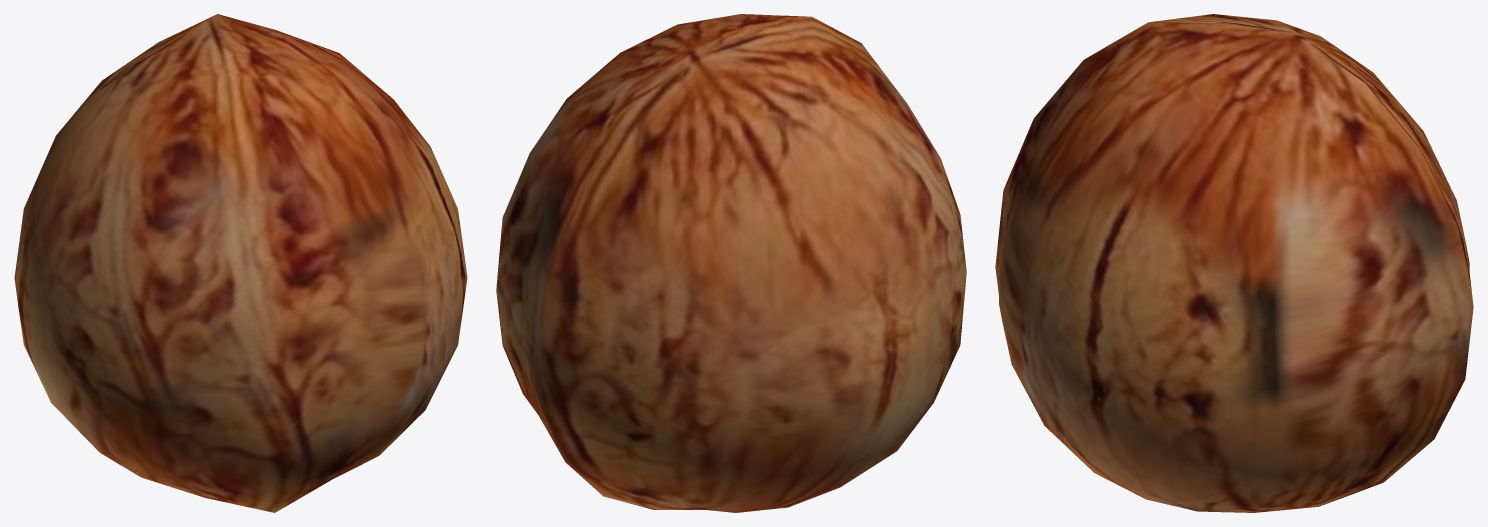
Rendered from walnut.glb.
3 views of the same model, side by side, from view 1: azimuth 30°, elevation 25°; view 2: azimuth 150°, elevation 25°; view 3: azimuth 270°, elevation 25° (orthographic). The views are drawn at different scales.
Visible parts, largest first — view 1: Icosphere; view 2: Icosphere; view 3: Icosphere.
Boxes of the visible parts, left/top/right/bottom form: Icosphere: left=14, top=14, right=467, bottom=512; Icosphere: left=496, top=14, right=966, bottom=512; Icosphere: left=995, top=14, right=1473, bottom=512.
Bounding box in the file's own units: 1.45 × 1.61 × 1.48.
1 material, 1 textured.
